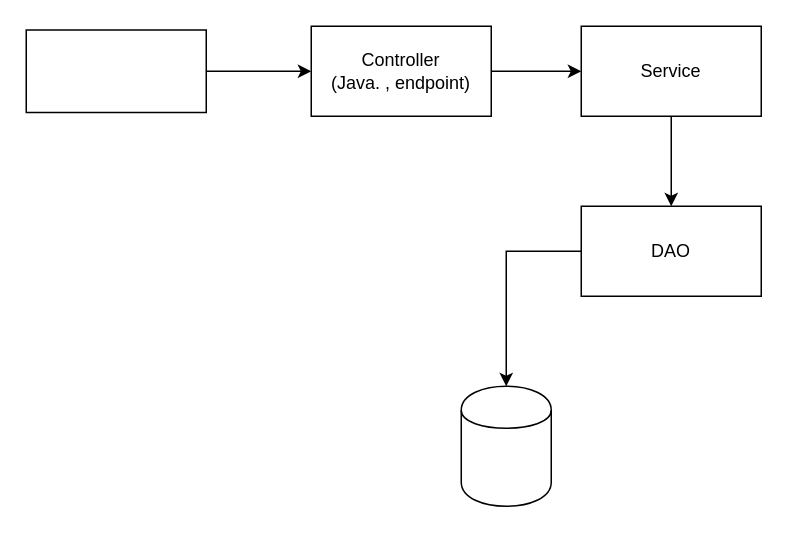
Image size: 788x533. Some labels were removed from this diagram. Here are the shapes that lost their labels. From the top down, the box of each, then its label:
(25, 28, 206, 112): UI, Angular
(460, 385, 551, 506): DB, MongoDb
